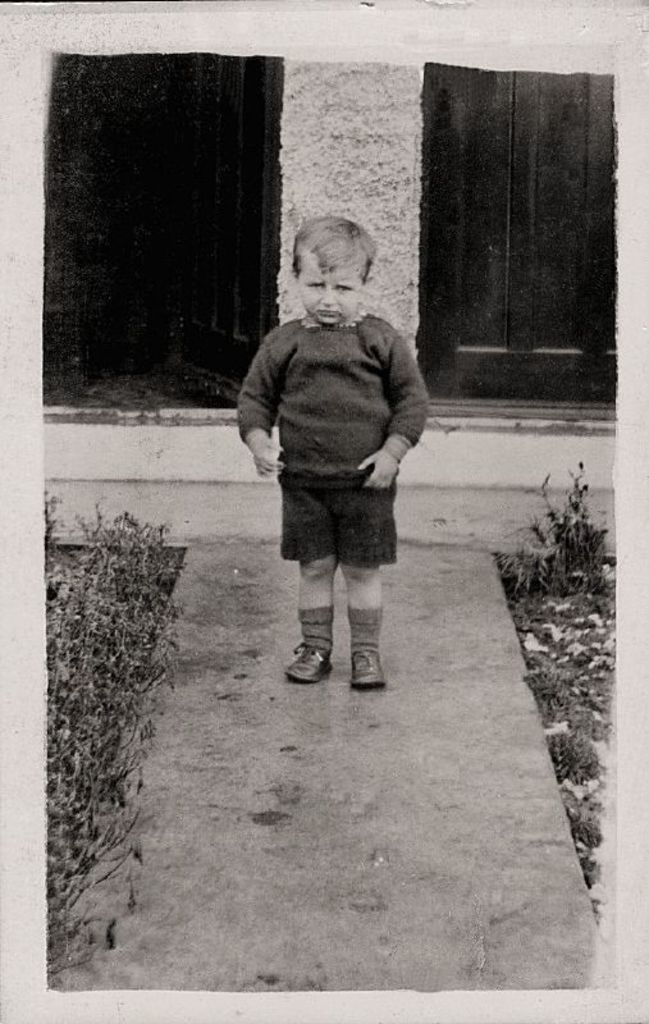Human-face: (294, 255, 361, 325)
